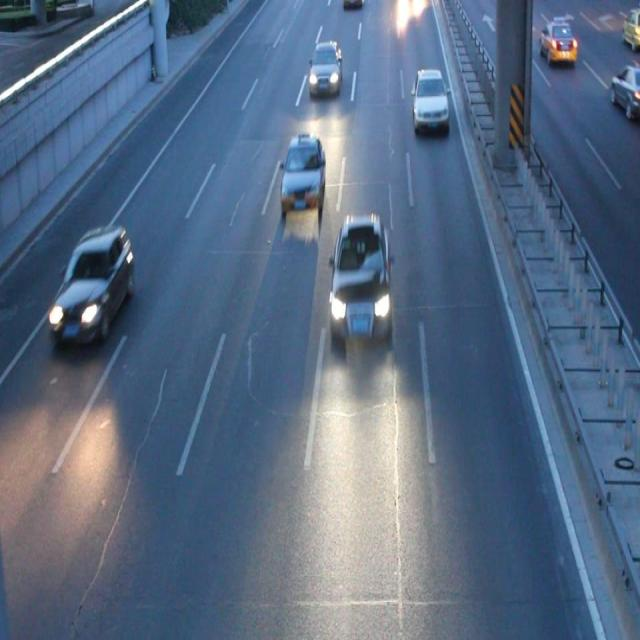car: (51, 228, 131, 342), (332, 217, 389, 341), (281, 137, 325, 211), (413, 68, 447, 124), (309, 43, 341, 91), (610, 65, 640, 116), (536, 21, 574, 61), (344, 1, 362, 12)
